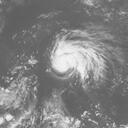cyclone: (51, 39, 107, 80)
